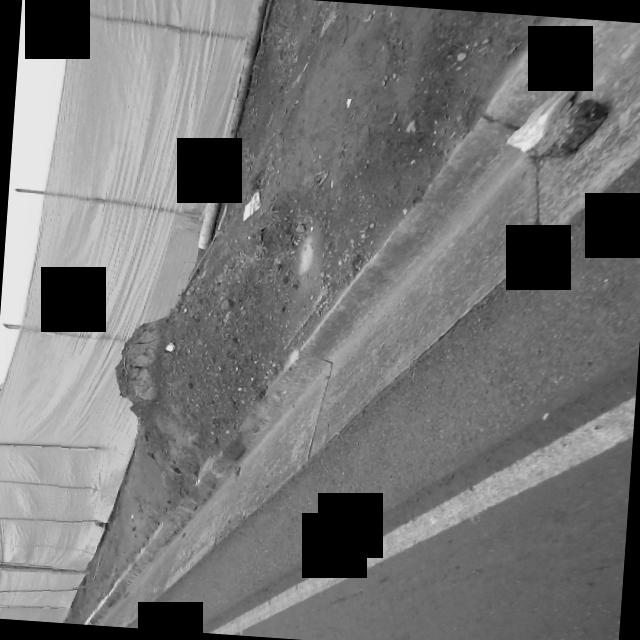DITCH: (3, 0, 640, 640), (48, 0, 640, 640), (75, 0, 640, 640)
